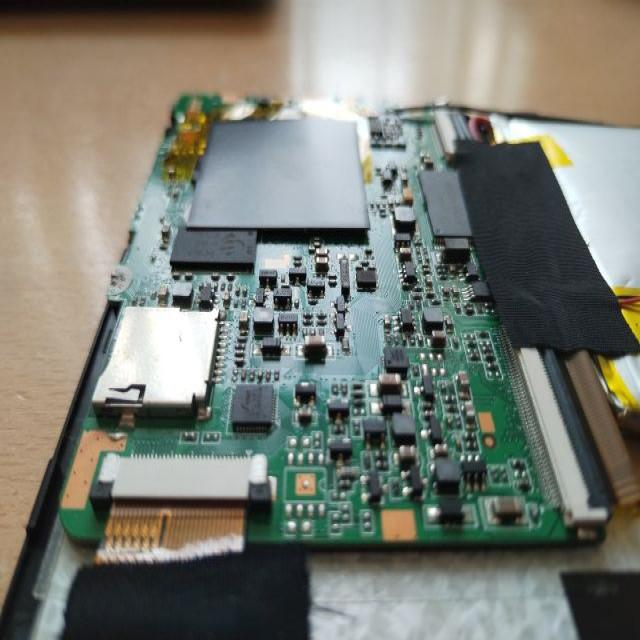capacitor: (478, 495, 526, 526), (367, 367, 406, 393), (303, 331, 330, 362), (461, 395, 478, 430), (457, 372, 472, 401), (157, 280, 170, 307), (430, 330, 448, 349), (238, 308, 250, 336), (299, 406, 315, 422), (315, 245, 330, 256), (316, 256, 328, 269), (452, 284, 459, 299), (426, 271, 433, 284), (442, 286, 448, 297)
resistor: (507, 456, 533, 476), (464, 336, 478, 352), (290, 253, 309, 264), (225, 273, 242, 284), (185, 272, 201, 283), (326, 282, 342, 289), (479, 330, 491, 339)
